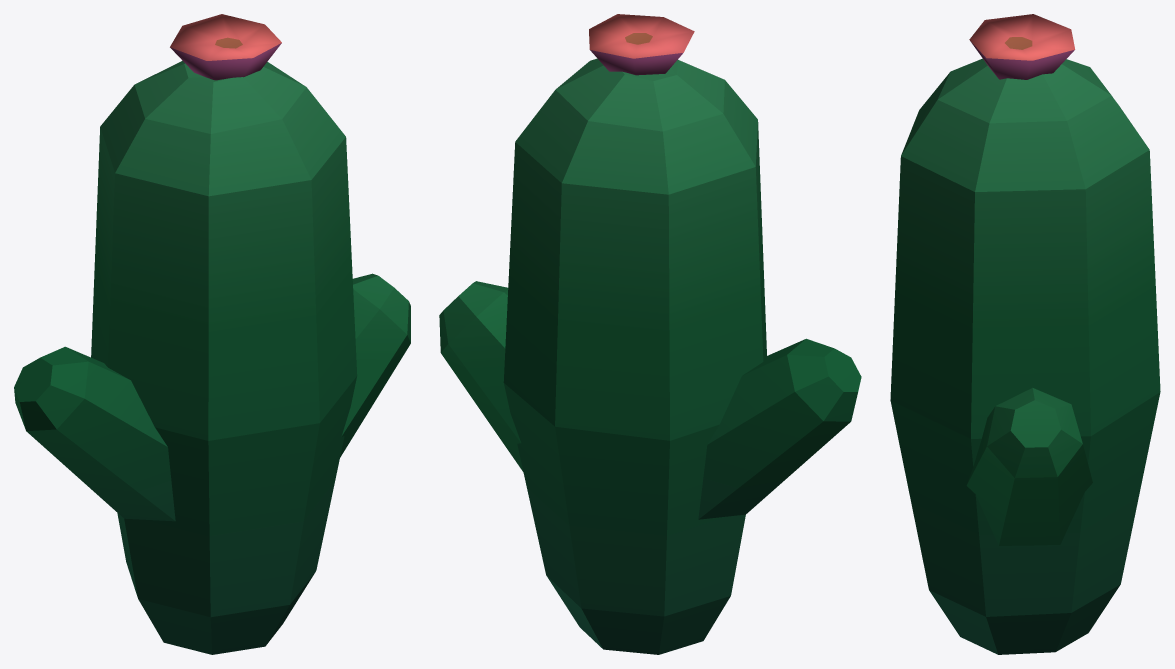
The model's file is Desert_Plant_02_Small_0_1.fbx.
3 renders of one model, left to right at view 1: azimuth 30°, elevation 25°; view 2: azimuth 150°, elevation 25°; view 3: azimuth 270°, elevation 25°, orthographic.
Visible parts, largest first — view 1: cactus-medium.001; view 2: cactus-medium.001; view 3: cactus-medium.001.
Part boxes in pixels (x1,y1,x2,y2): cactus-medium.001: (14, 14, 410, 654); cactus-medium.001: (439, 14, 861, 654); cactus-medium.001: (890, 14, 1160, 654).
Size of the model in its own units: 206 by 290 by 119.
